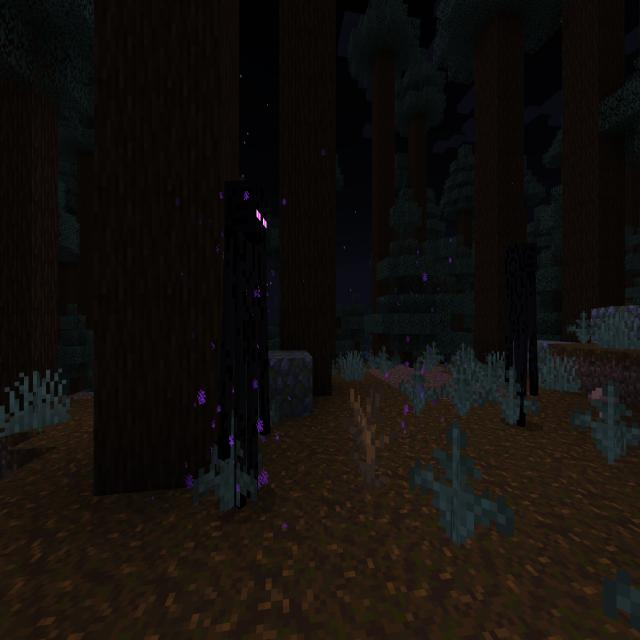Enderman: (216, 173, 270, 514), (502, 235, 542, 432)
